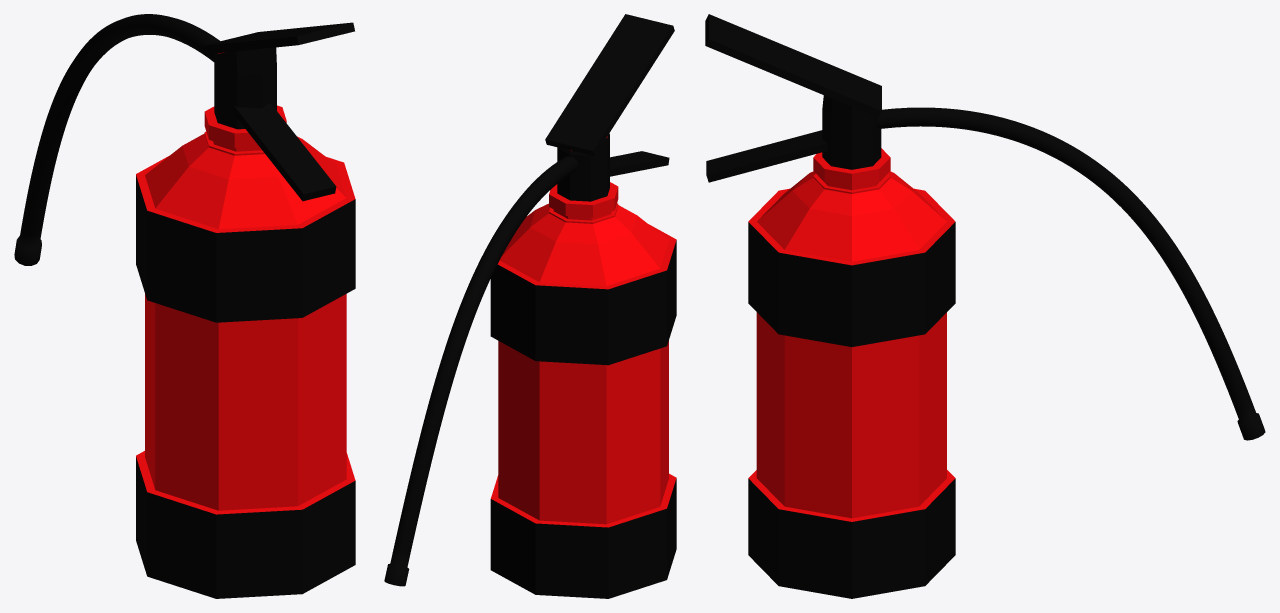
File: fireextinguisher.fbx
The picture shows the model from 3 angles, left to right: view 1: azimuth 30°, elevation 25°; view 2: azimuth 150°, elevation 25°; view 3: azimuth 270°, elevation 25°; orthographic projection. The views are drawn at different scales.
Parts seen in each view (by area): view 1: NurbsPath; view 2: NurbsPath; view 3: NurbsPath.
Part boxes in pixels (x1=…): NurbsPath: x1=14, y1=14, x2=355, y2=598; NurbsPath: x1=384, y1=14, x2=676, y2=598; NurbsPath: x1=705, y1=14, x2=1265, y2=598.
Bounding box in the file's own units: 218 × 613 × 589.
